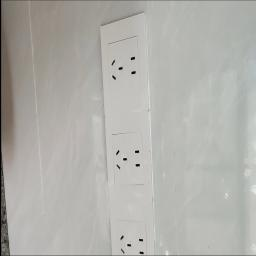outlet: (101, 6, 158, 256)
